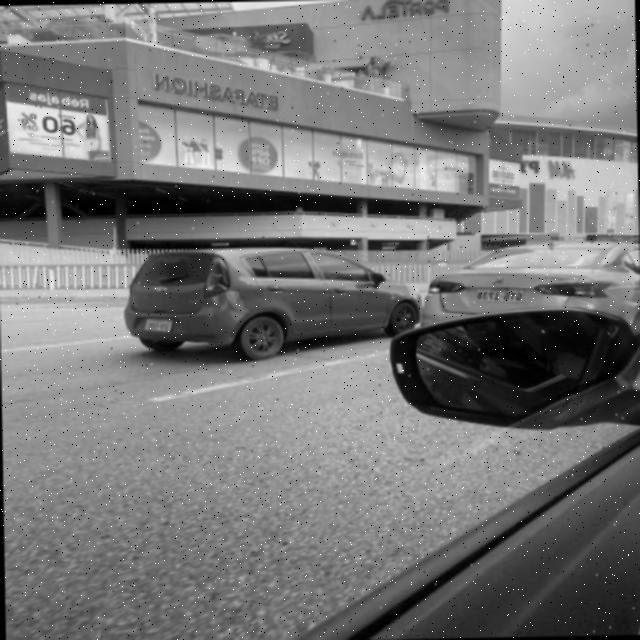Placa: (476, 289, 523, 301), (145, 319, 171, 330)
